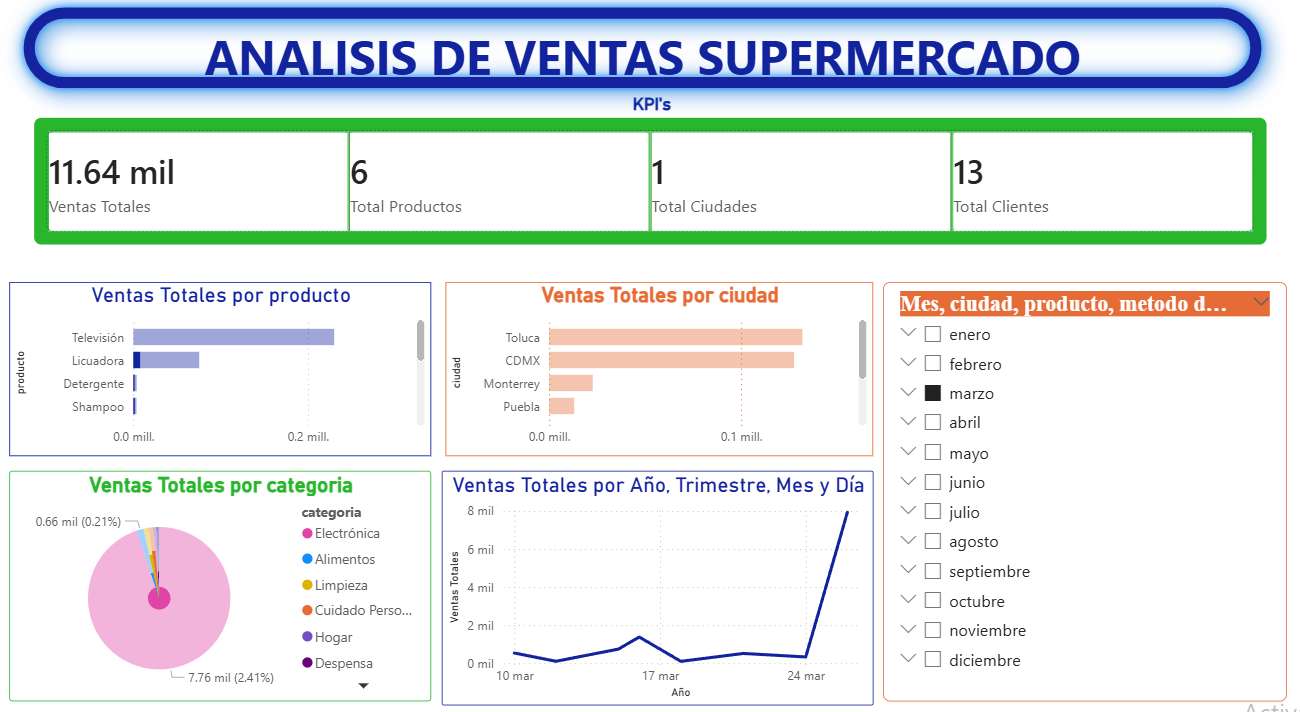

Layout of this report page (visuals, bound fields, positions):
{"tool":"powerbi","page":{"name":"Página 1","canvas":[1280,720],"ordinal":0},"visuals":[{"type":"cardVisual","title":"KPI''s","fields":{"Data":["ecommerce_retail_dataset.Ventas Totales","ecommerce_retail_dataset.Total Productos","ecommerce_retail_dataset.Total Ciudades","ecommerce_retail_dataset.Total Clientes"]},"box":[30.3,108.8,1218.3,154.2],"z":0},{"type":"clusteredBarChart","fields":{"Category":["ecommerce_retail_dataset.producto"],"Y":["ecommerce_retail_dataset.Ventas Totales"]},"box":[11,293.2,413,170.7],"z":1000},{"type":"clusteredBarChart","fields":{"Category":["ecommerce_retail_dataset.ciudad"],"Y":["ecommerce_retail_dataset.Ventas Totales"]},"box":[437.8,293.2,418.5,170.7],"z":2000},{"type":"pieChart","fields":{"Category":["ecommerce_retail_dataset.categoria"],"Y":["ecommerce_retail_dataset.Ventas Totales"]},"box":[11,477.7,413,225.8],"z":3000},{"type":"lineChart","fields":{"Y":["ecommerce_retail_dataset.Ventas Totales"],"Category":["ecommerce_retail_dataset.fecha_compra.Variación.Jerarquía de fechas.Año","ecommerce_retail_dataset.fecha_compra.Variación.Jerarquía de fechas.Trimestre","ecommerce_retail_dataset.fecha_compra.Variación.Jerarquía de fechas.Mes","ecommerce_retail_dataset.fecha_compra.Variación.Jerarquía de fechas.Día"]},"box":[433.6,477.7,422.6,229.9],"z":3001},{"type":"slicer","fields":{"Values":["ecommerce_retail_dataset.Mes","ecommerce_retail_dataset.ciudad","ecommerce_retail_dataset.producto","ecommerce_retail_dataset.metodo_pago"]},"box":[865.9,293.2,395.1,410.2],"z":3002},{"type":"actionButton","box":[0,0,1261.1,129],"z":3003}]}

Visuals, with their boxes in screenshot pixels (x1, y1, x2, y2), scaled from the page's 1280x720 canvas onto the 1300x712 screenshot:
"KPI''s" cardVisual: crop(31, 108, 1268, 260)
clusteredBarChart - ecommerce_retail_dataset.producto x ecommerce_retail_dataset.Ventas Totales: crop(11, 290, 431, 459)
clusteredBarChart - ecommerce_retail_dataset.ciudad x ecommerce_retail_dataset.Ventas Totales: crop(445, 290, 870, 459)
pieChart - ecommerce_retail_dataset.categoria x ecommerce_retail_dataset.Ventas Totales: crop(11, 472, 431, 696)
lineChart - ecommerce_retail_dataset.Ventas Totales x ecommerce_retail_dataset.fecha_compra.Variación.Jerarquía de fechas.Año: crop(440, 472, 870, 700)
slicer - ecommerce_retail_dataset.Mes x ecommerce_retail_dataset.ciudad: crop(879, 290, 1281, 696)
actionButton: crop(0, 0, 1281, 128)
